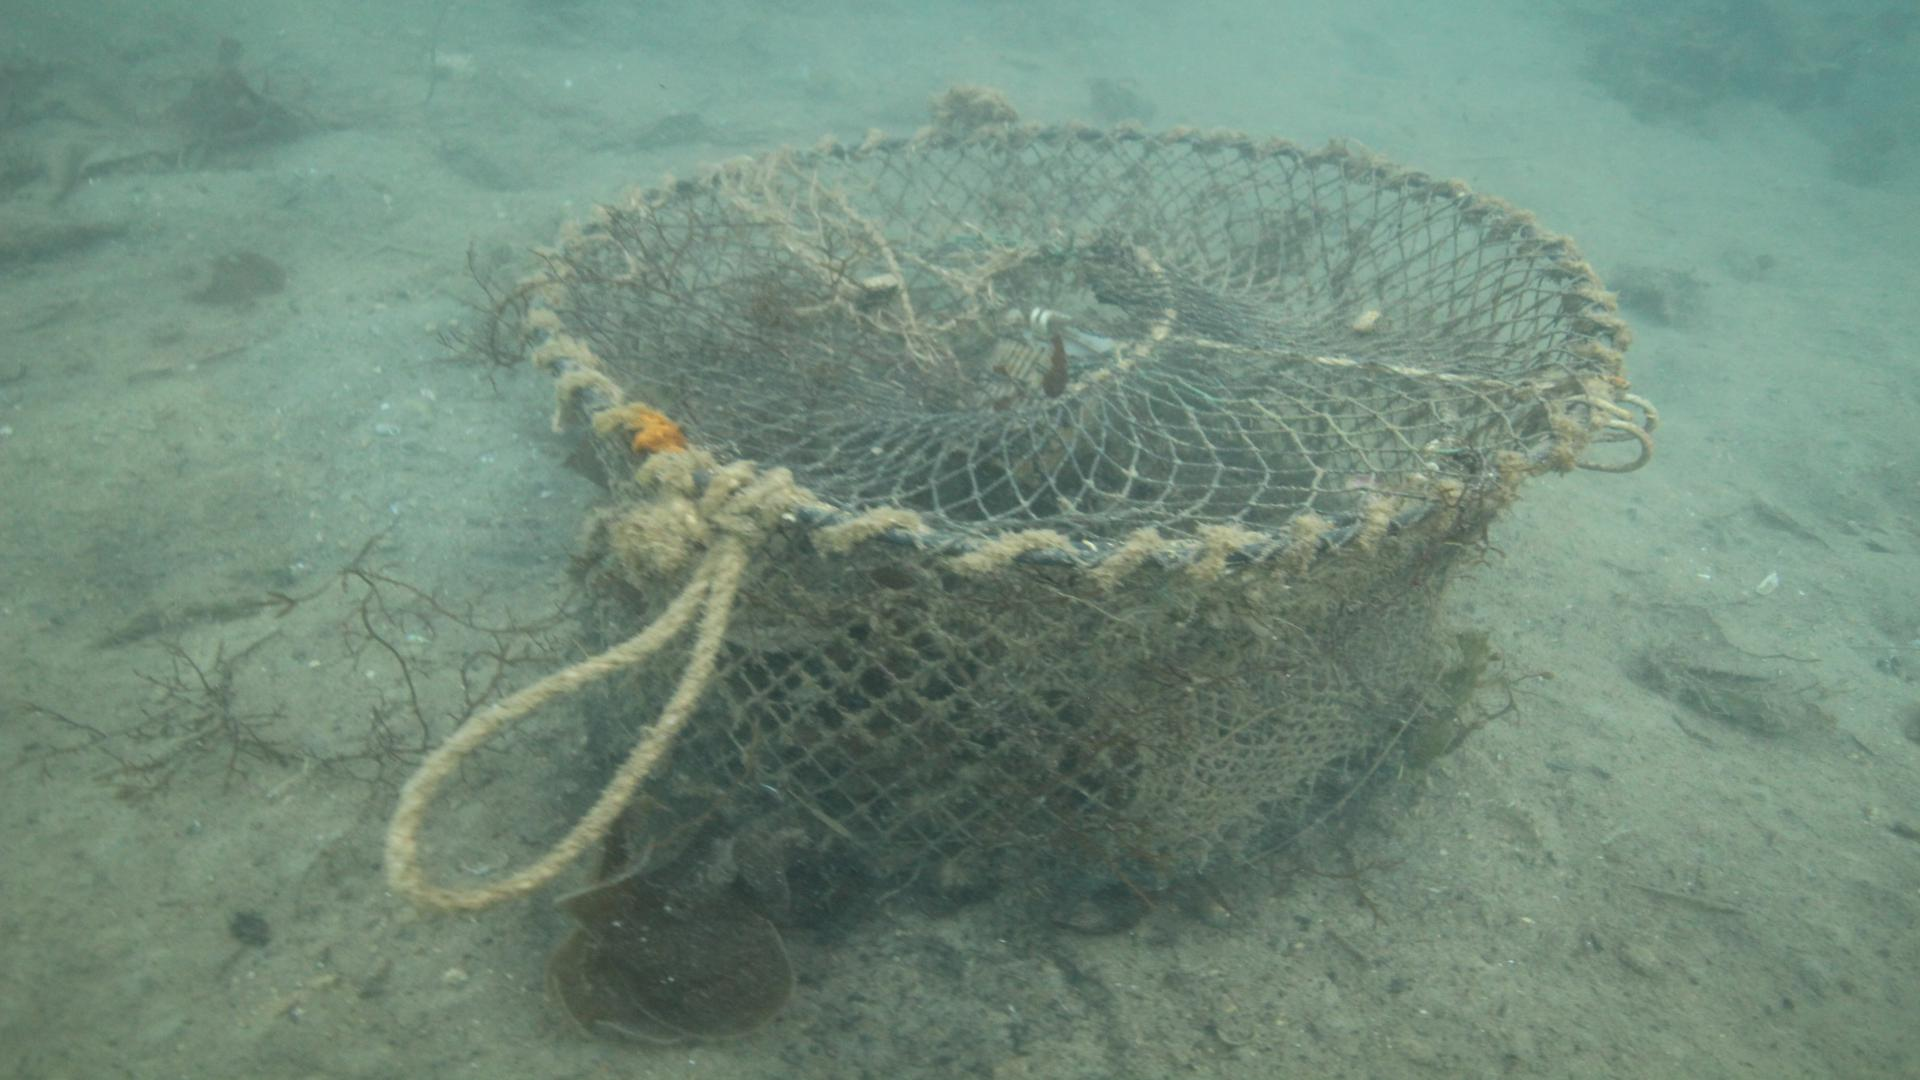circular fish trap: (522, 119, 1633, 864)
rope: (378, 535, 742, 913)
